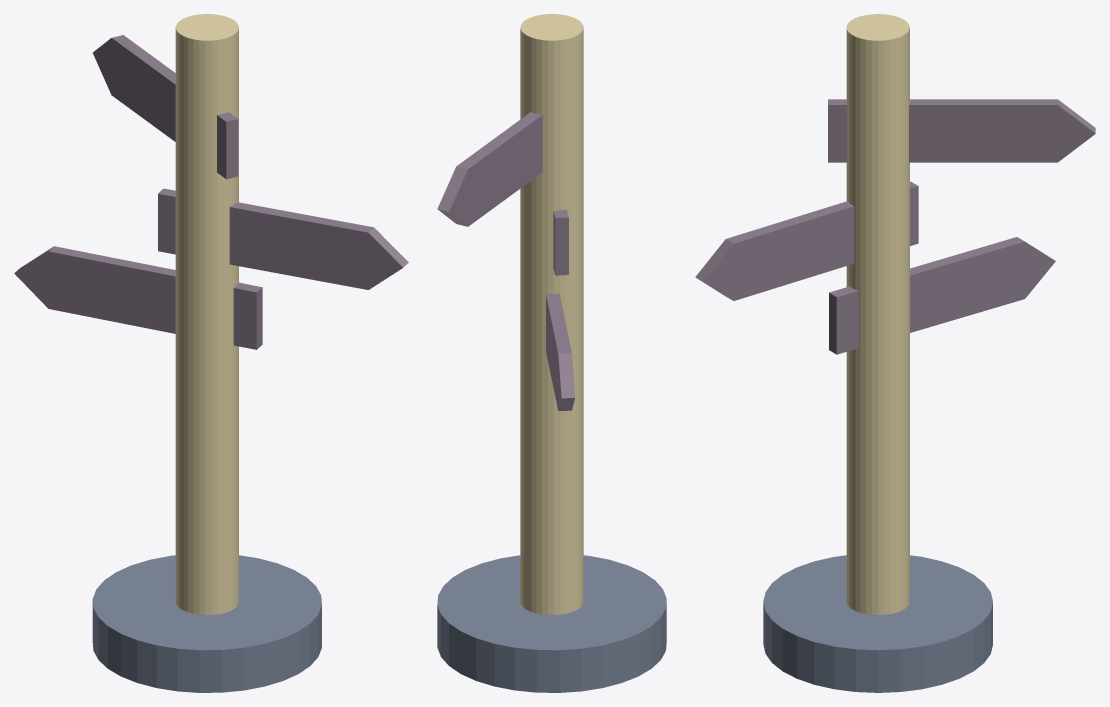
Rendered from roadsign.glb.
The picture shows the model from 3 angles, left to right: view 1: azimuth 30°, elevation 25°; view 2: azimuth 150°, elevation 25°; view 3: azimuth 270°, elevation 25°; orthographic projection.
Parts seen in each view (by area): view 1: Pole, Base, indicator2, indicator3, indicator1; view 2: Pole, Base, indicator1, indicator3, indicator2; view 3: Pole, Base, indicator1, indicator3, indicator2.
Part boxes in pixels (x1=…): Pole: x1=175, y1=14, x2=238, y2=614; Base: x1=92, y1=555, x2=321, y2=692; indicator2: x1=158, y1=188, x2=408, y2=289; indicator3: x1=14, y1=246, x2=262, y2=349; indicator1: x1=93, y1=35, x2=238, y2=179; Pole: x1=520, y1=14, x2=583, y2=614; Base: x1=437, y1=555, x2=666, y2=692; indicator1: x1=437, y1=112, x2=542, y2=226; indicator3: x1=546, y1=293, x2=575, y2=410; indicator2: x1=553, y1=209, x2=568, y2=275; Pole: x1=846, y1=14, x2=909, y2=614; Base: x1=763, y1=555, x2=992, y2=692; indicator1: x1=828, y1=99, x2=1095, y2=162; indicator3: x1=829, y1=237, x2=1055, y2=354; indicator2: x1=695, y1=181, x2=918, y2=300.
Size of the model in its own units: 2.23 by 5.93 by 3.49.
